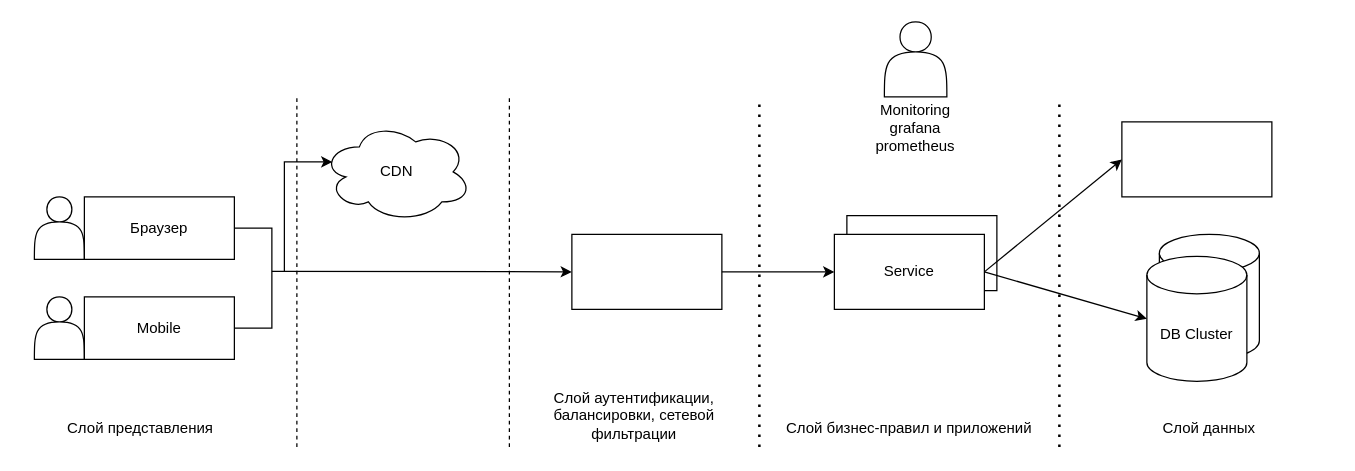
Some shapes in this 1355 by 471 pixel diagram are drawn without their labels. Here are the shapes that lost their labels. From the top down, the centre of each, then its label:
At (x=1196, y=159): "Cache".
At (x=646, y=271): "API Gateway".
